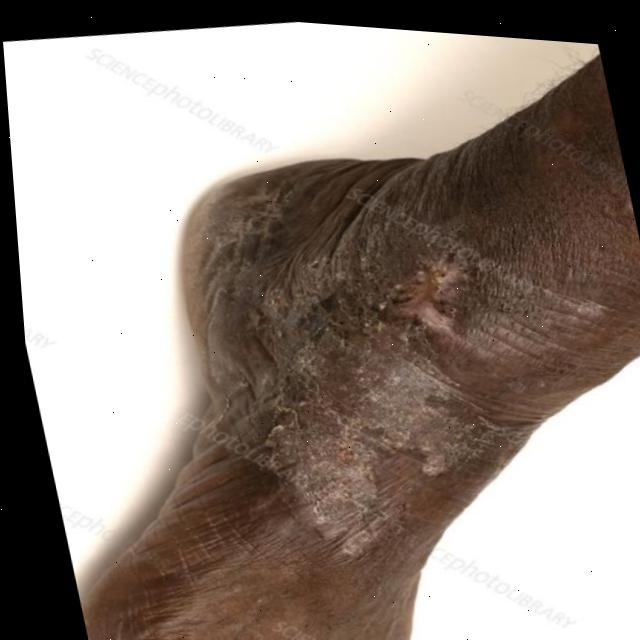Eczema: (219, 185, 586, 545)
